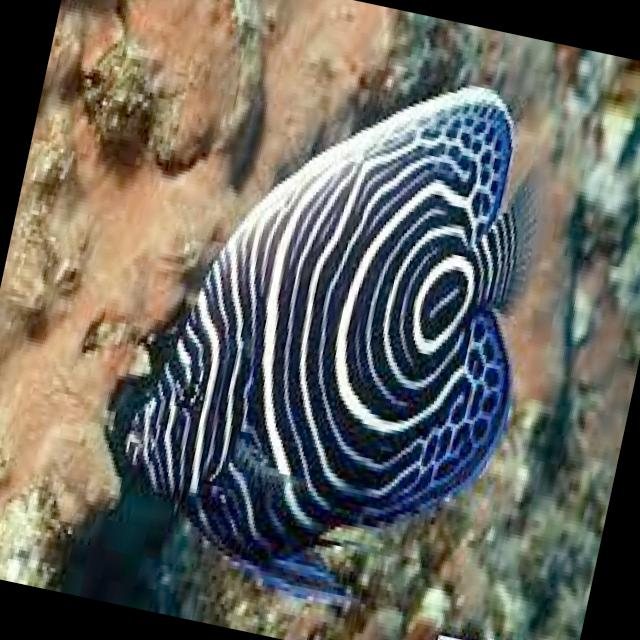AngelFish: (118, 39, 573, 582)
